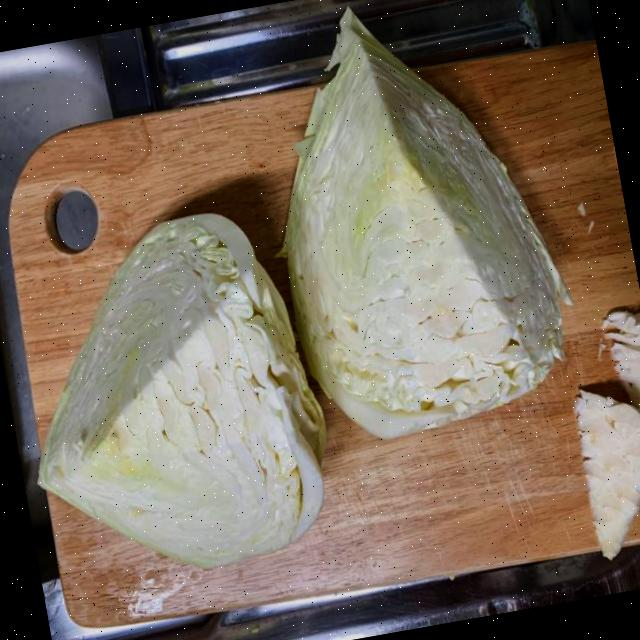cabbage: (244, 0, 581, 443), (0, 193, 348, 591)
